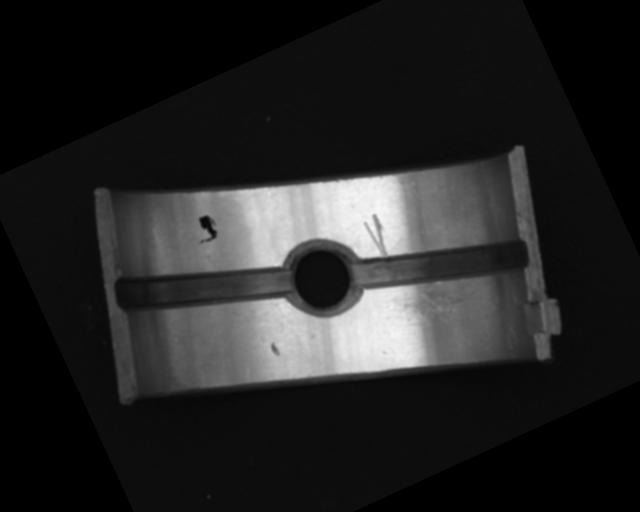blot: (189, 210, 222, 246)
bruise: (268, 339, 282, 359)
gap: (109, 215, 297, 360), (349, 195, 532, 333)
hole: (271, 228, 372, 328)
nick: (360, 211, 396, 261)
scratch: (383, 258, 498, 350)
